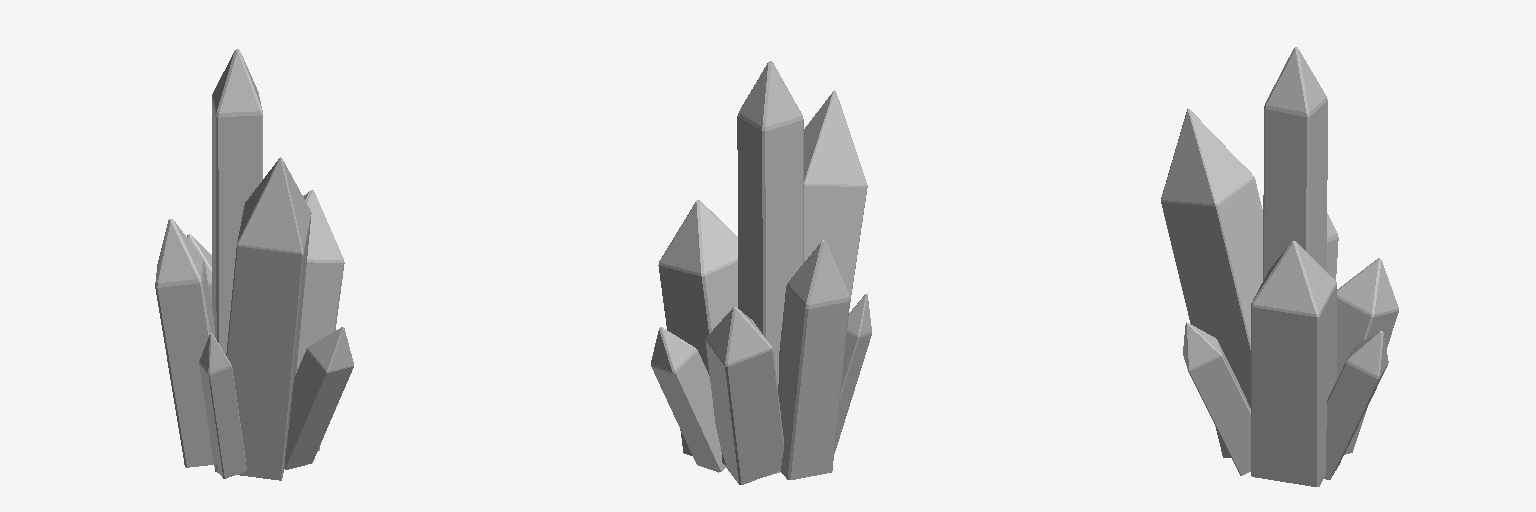
Rendered from crystal2.obj.
3 renders of one model, left to right at view 1: azimuth 30°, elevation 25°; view 2: azimuth 150°, elevation 25°; view 3: azimuth 270°, elevation 25°, orthographic.
Visible parts, largest first — view 1: initialShadingGroup CrystalCrack; view 2: initialShadingGroup CrystalCrack; view 3: initialShadingGroup CrystalCrack.
Part boxes in pixels (x1,y1,x2,y2): initialShadingGroup CrystalCrack: (155,49,353,480); initialShadingGroup CrystalCrack: (651,61,871,484); initialShadingGroup CrystalCrack: (1161,47,1398,486).
Bounding box in the file's own units: 1.18 × 2.52 × 1.34.